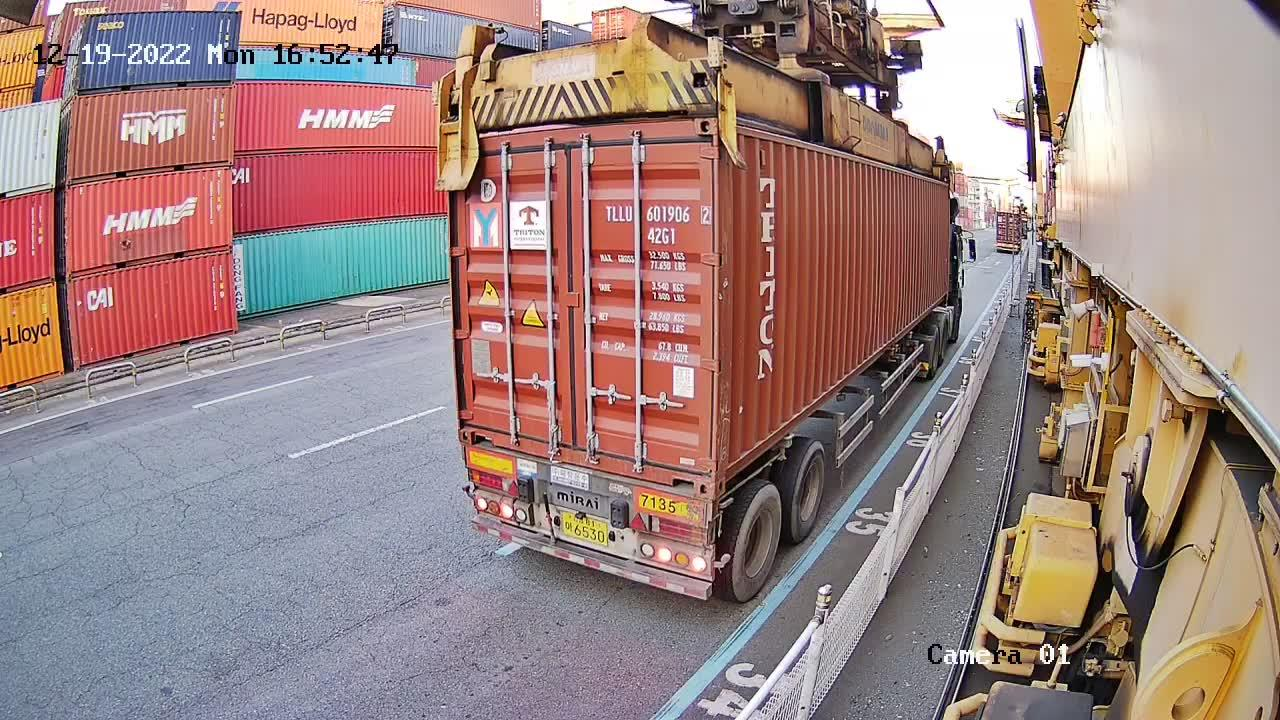Chassis: (462, 442, 714, 528)
Cone: (712, 492, 727, 522)
Hole_L: (716, 432, 745, 497), (456, 402, 490, 448)
Hole_R: (666, 442, 716, 497)
Tire: (732, 486, 783, 600), (792, 447, 826, 536)
